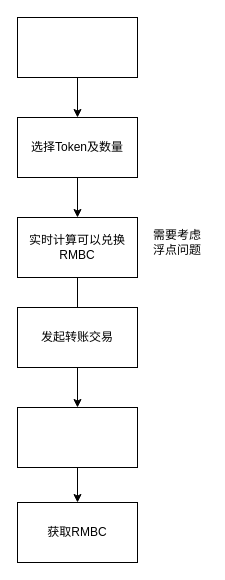
This 225x580 diagram has some shape labels left out. The shapes that lost their labels are listed below. From the top down, each one's centre as x and y in pixels, then its label:
the point at 77,47: 兑入
the point at 77,437: 区块链转账交易成功
